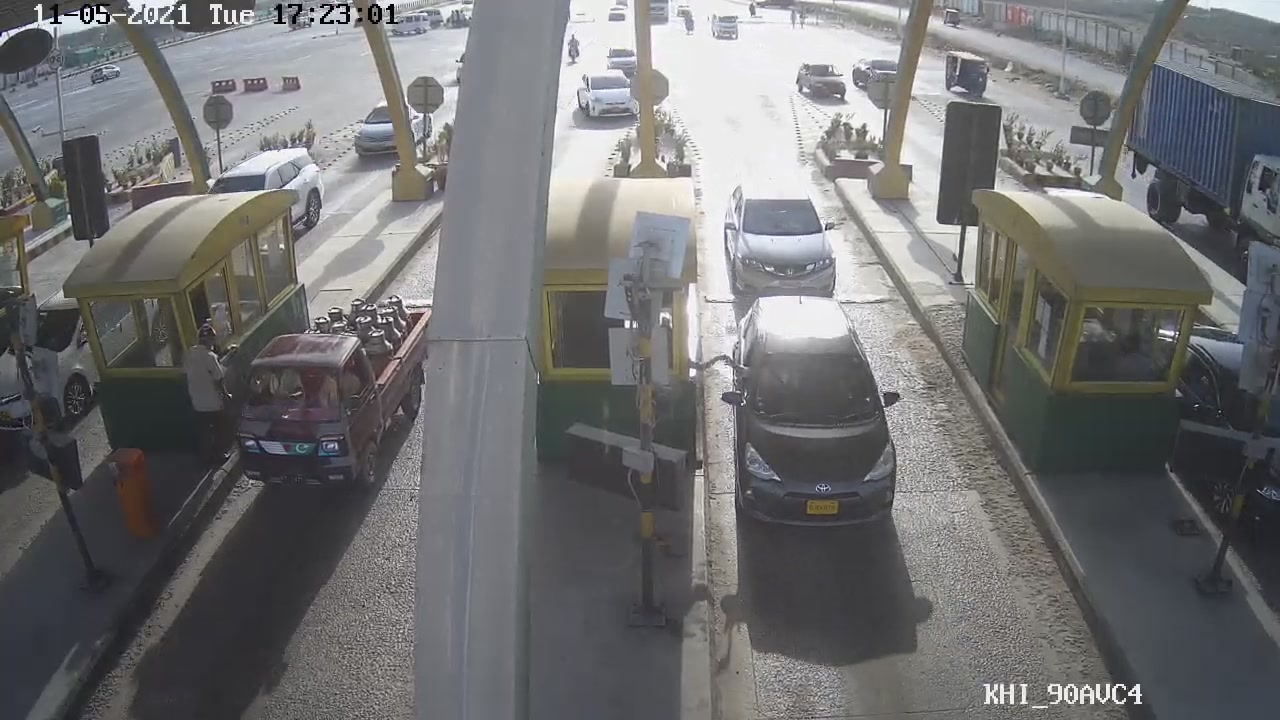F1: (728, 291, 906, 537)
